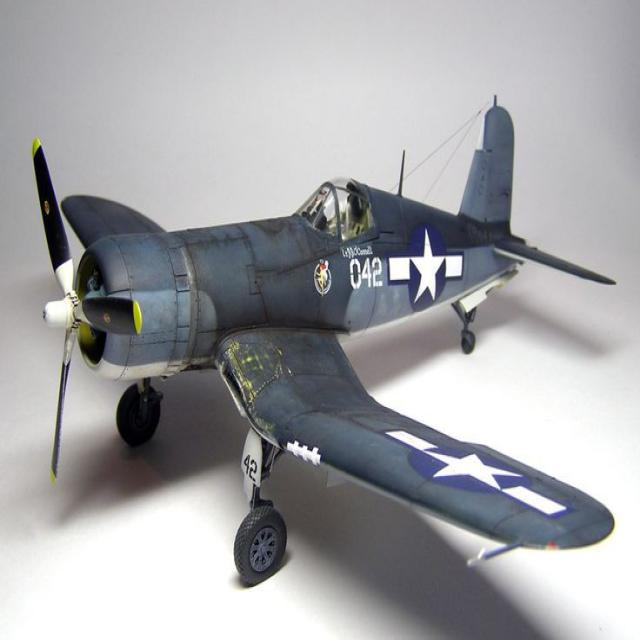iha: (36, 90, 614, 583)
